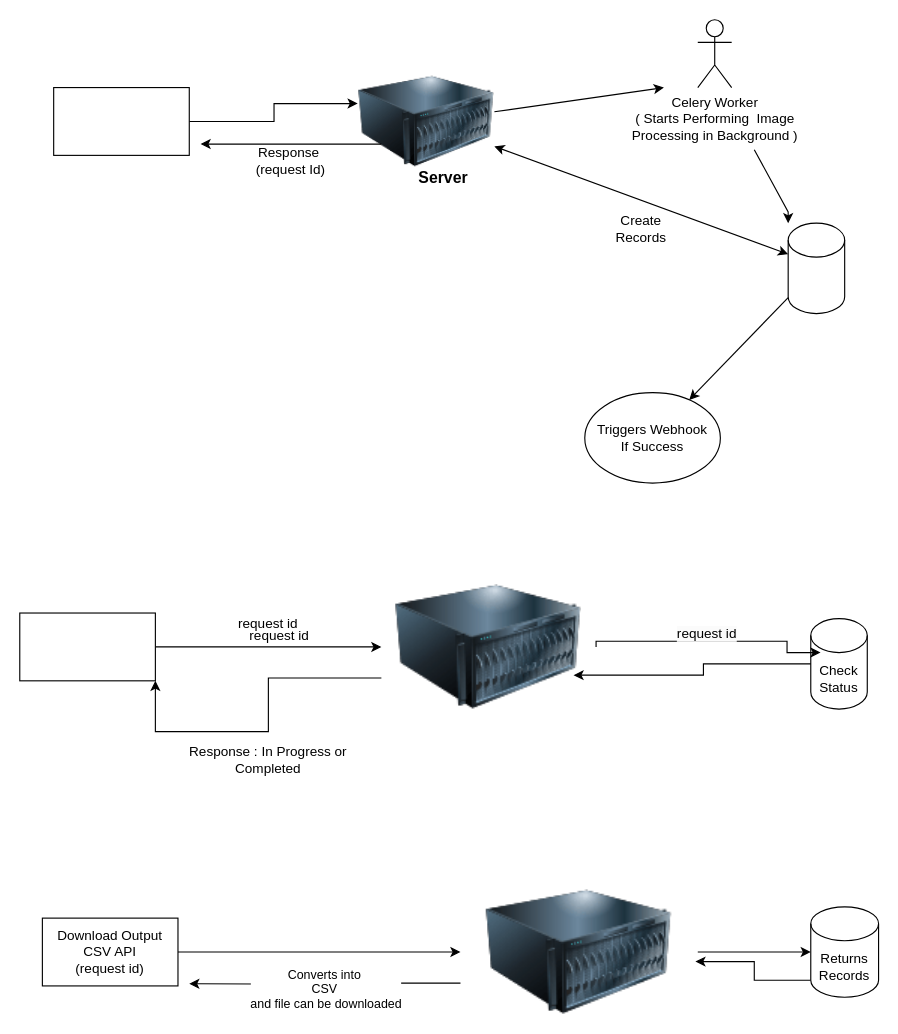
Image size: 898x1034. Some labels were removed from this diagram. The shapes that lost their labels are listed below. From the top down, each one's centre as x and y in pixels, then its label:
At [121,120]: "Upload CSV API ( file , webhook url )".
At [816,268]: "Save to DB".
At [87,646]: "Check Status API (Request Id)".
